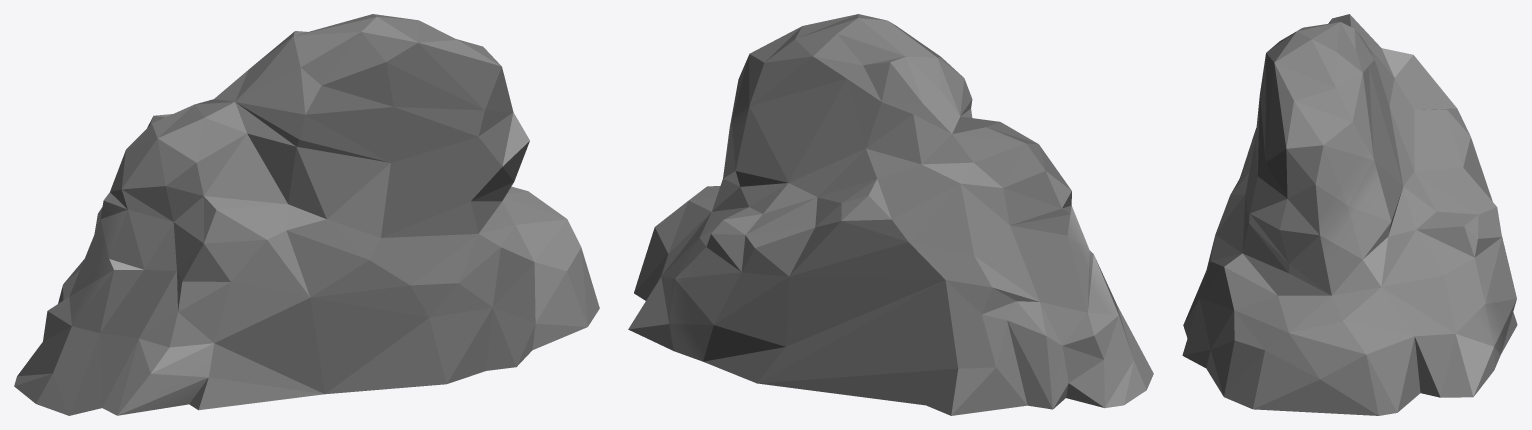
The model's file is stoun_17.fbx.
The picture shows the model from 3 angles, left to right: view 1: azimuth 30°, elevation 25°; view 2: azimuth 150°, elevation 25°; view 3: azimuth 270°, elevation 25°; orthographic projection. The views are drawn at different scales.
Visible parts, largest first — view 1: Object.023; view 2: Object.023; view 3: Object.023.
Boxes of the visible parts, left/top/right/bottom form: Object.023: left=14, top=14, right=599, bottom=415; Object.023: left=628, top=14, right=1153, bottom=415; Object.023: left=1182, top=14, right=1517, bottom=415.
Bounding box in the file's own units: 621 × 352 × 372.
